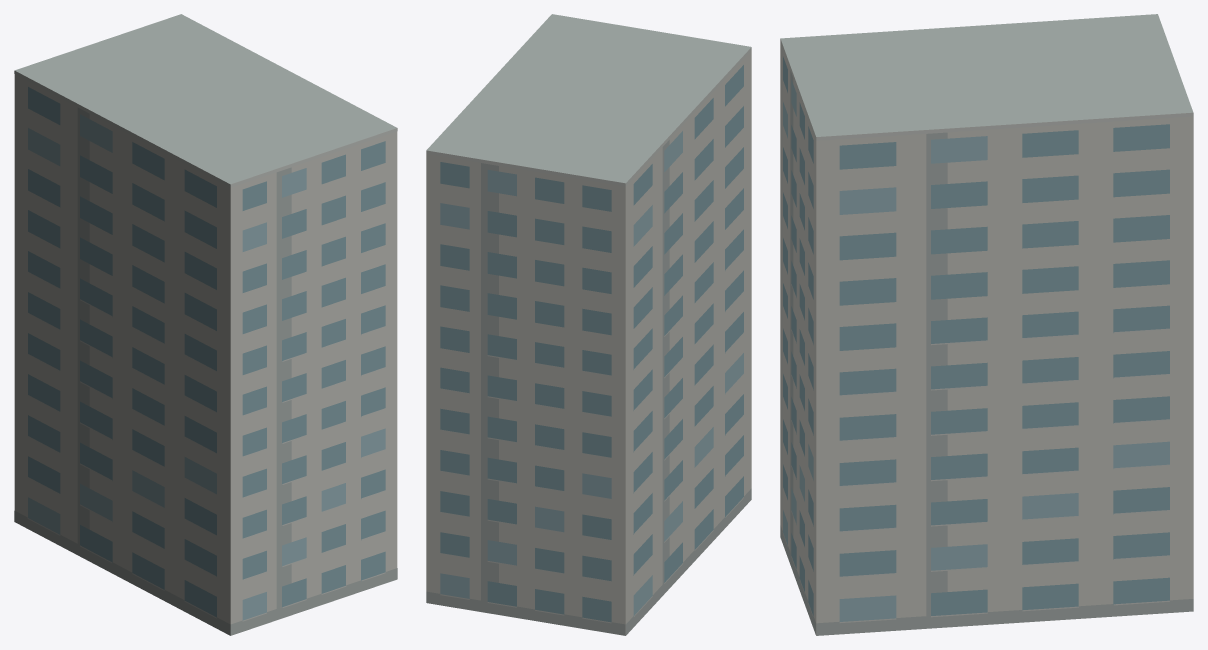
The model's file is residential-0b7f65d0-ebe8-4850-be41-0a588444a3e1.glb.
The picture shows the model from 3 angles, left to right: view 1: azimuth 30°, elevation 25°; view 2: azimuth 150°, elevation 25°; view 3: azimuth 270°, elevation 25°; orthographic projection. The views are drawn at different scales.
Parts seen in each view (by area): view 1: residential-0b7f65d0-ebe8-4850-be41-0a588444a3e1.tmp; view 2: residential-0b7f65d0-ebe8-4850-be41-0a588444a3e1.tmp; view 3: residential-0b7f65d0-ebe8-4850-be41-0a588444a3e1.tmp.
Part boxes in pixels (x1=…): residential-0b7f65d0-ebe8-4850-be41-0a588444a3e1.tmp: x1=14, y1=14, x2=397, y2=635; residential-0b7f65d0-ebe8-4850-be41-0a588444a3e1.tmp: x1=426, y1=14, x2=751, y2=635; residential-0b7f65d0-ebe8-4850-be41-0a588444a3e1.tmp: x1=780, y1=14, x2=1193, y2=635.
Size of the model in its own units: 16.42 by 31 by 23.28.
